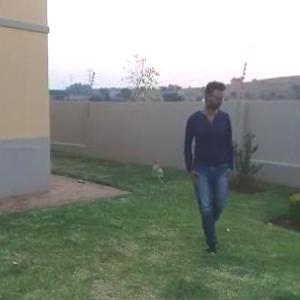follow: (180, 77, 226, 239)
